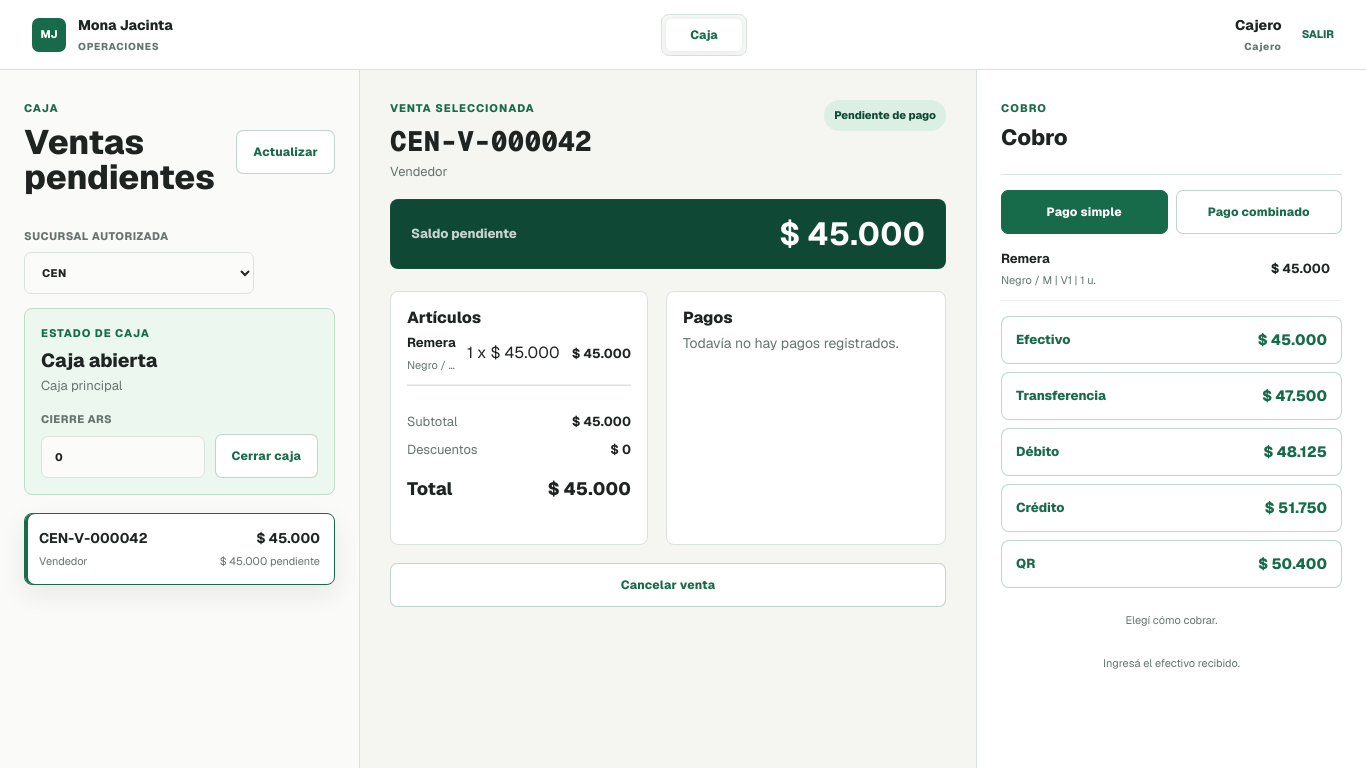
Test case: Caja — tipo de cobro › UI-CREDIT-3 Pago simple + Crédito cotiza sin importes fijos, exige solo la referencia (sin institución) y cobra con balanceMethod CARD_CREDIT
The image size is (1366, 768).
Expected: the heading "Ventas pendientes" is shown, [24,124,236,196]
Expected: the heading "CEN-V-000042" is shown, [390,124,592,157]
Click the button "Crédito $ 51.750": (1040, 508) [1001,484,1342,532]
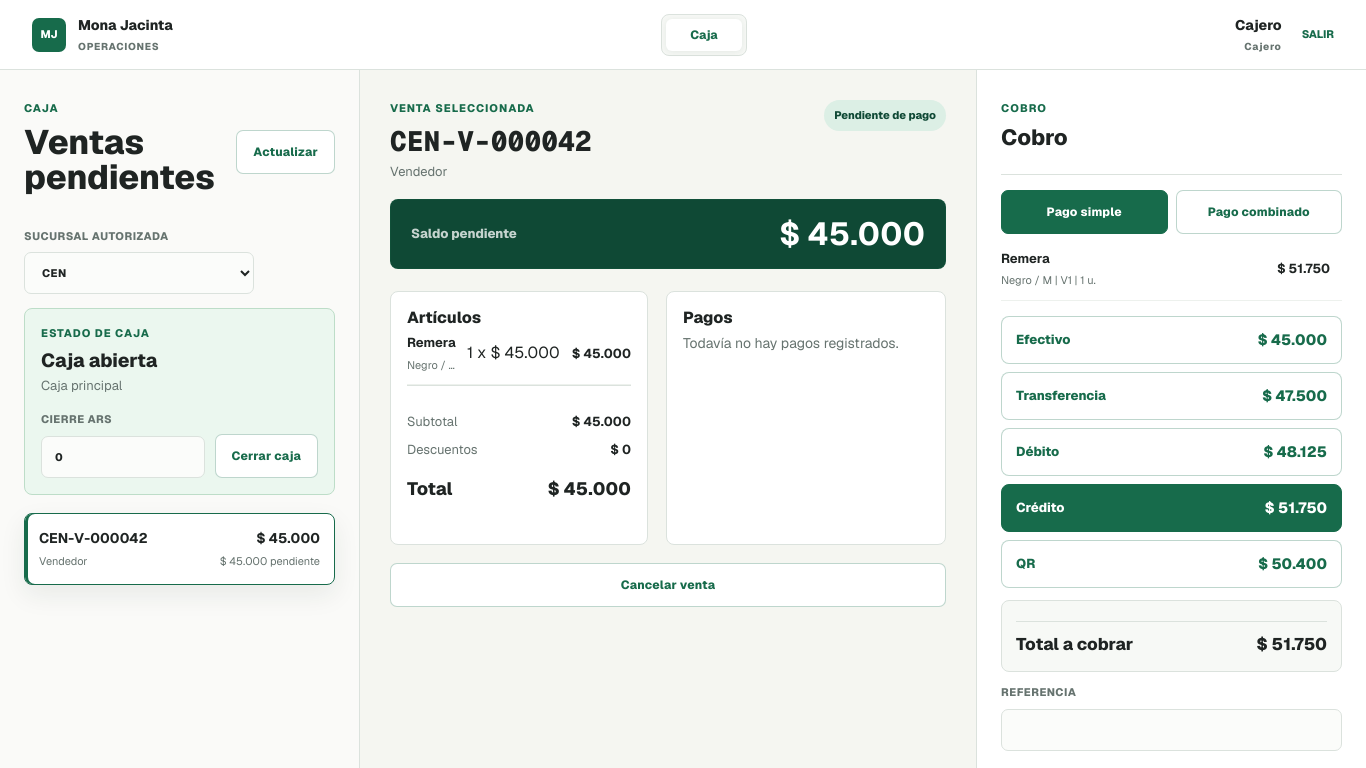
Now the text with test id "simple-total" shows "51.750", box [1256,633,1327,655]
Now the text labelled "recibido" is gone
In the field labelled "Referencia": (1172, 730) [1001,709,1342,751], type "CRD0042"
(page scrolled)
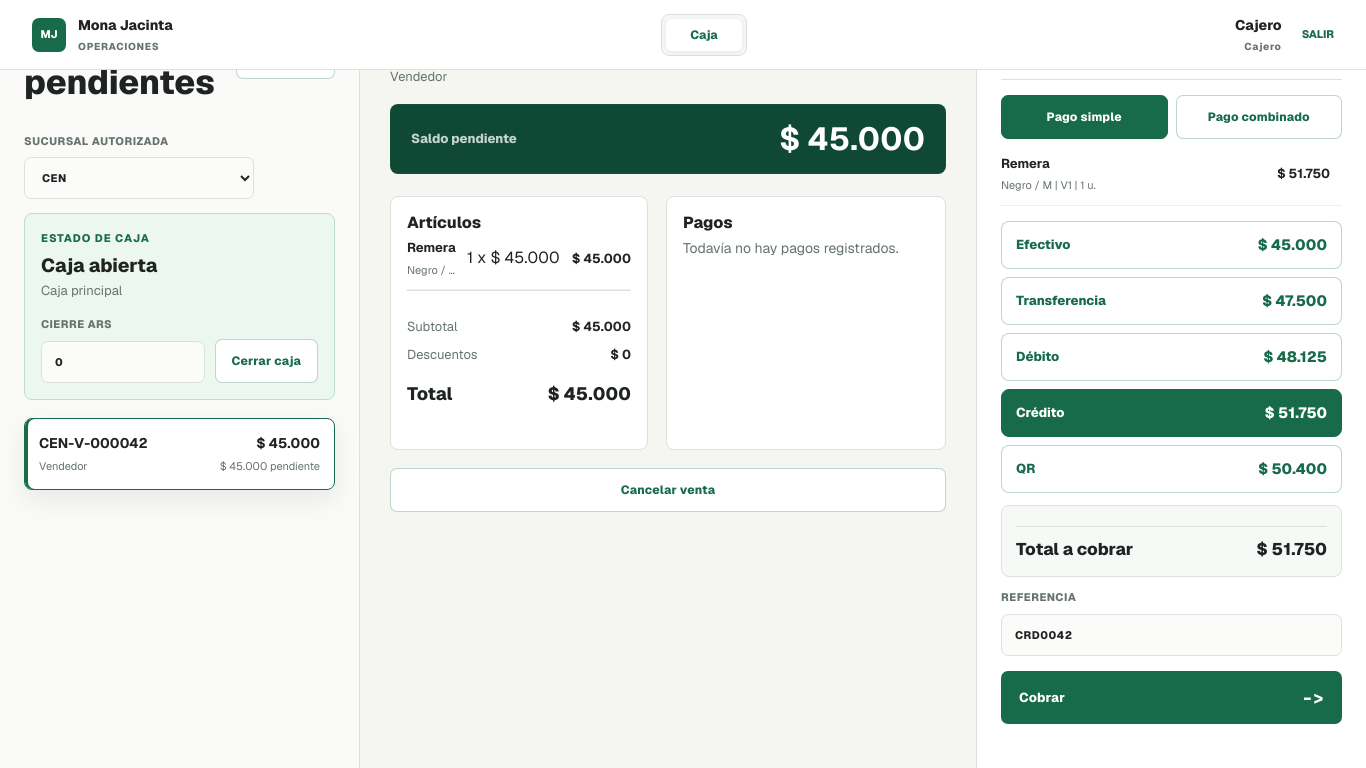
Now the button "Cobrar ->" is enabled
Click the button "Cobrar ->": (1042, 698) [1001,671,1342,724]
(page scrolled)
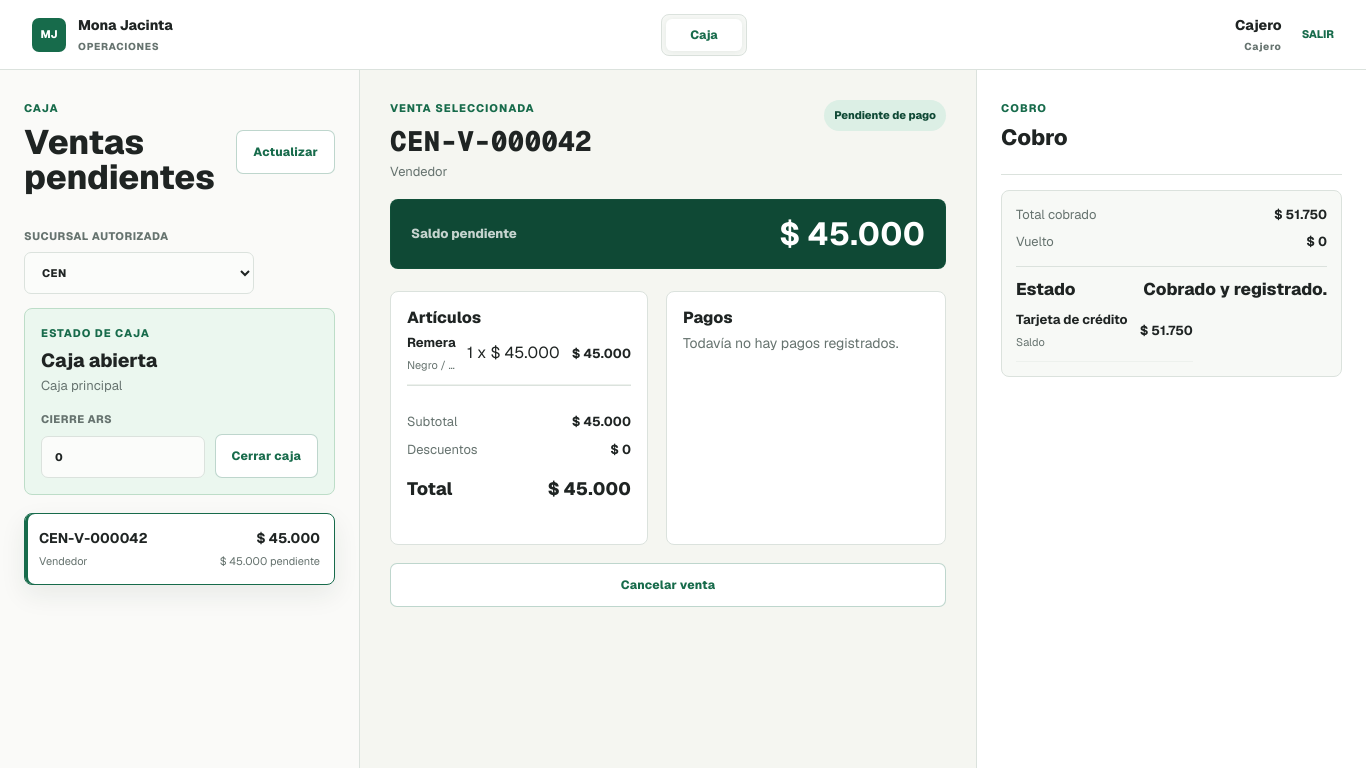
Now the element with test id "proportional-result" is shown, box [1001,190,1342,377]
